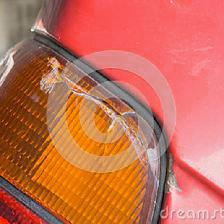tail_lamp: (38, 59, 201, 195)
